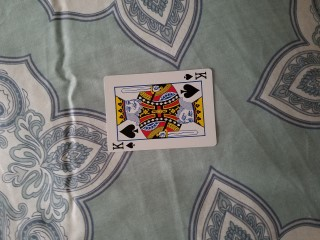KingOfSpades: (104, 68, 218, 154)
